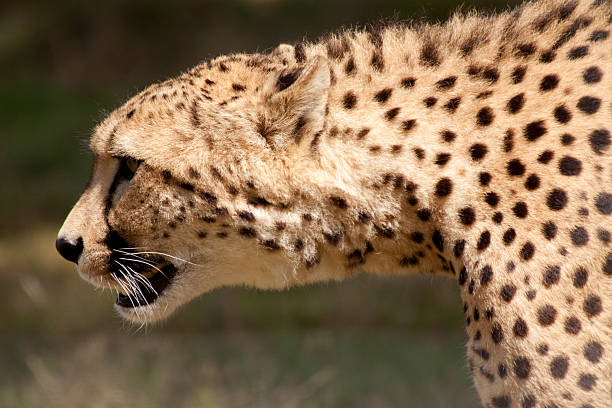cheetah: (41, 36, 358, 344)
